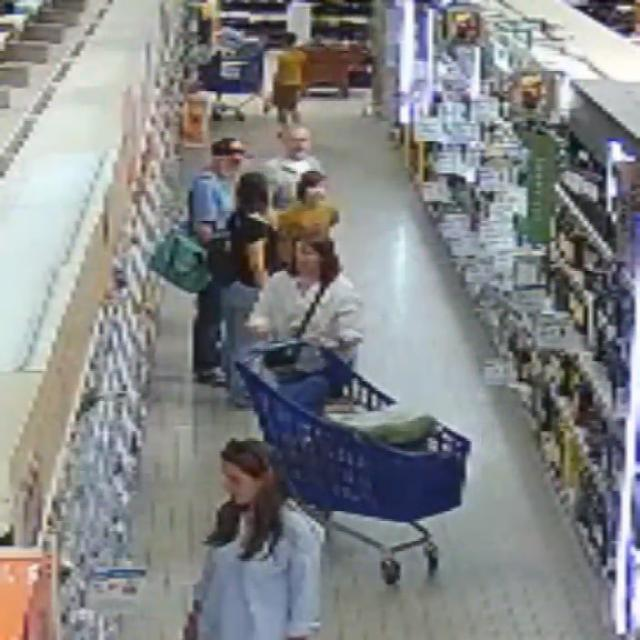bags: (263, 285, 326, 378), (209, 227, 241, 287)
hands: (183, 610, 199, 639), (303, 335, 338, 348), (253, 326, 269, 340)
person: (192, 439, 323, 639), (250, 238, 363, 362), (220, 173, 275, 406), (190, 138, 245, 253), (278, 171, 339, 265), (264, 126, 322, 210)
